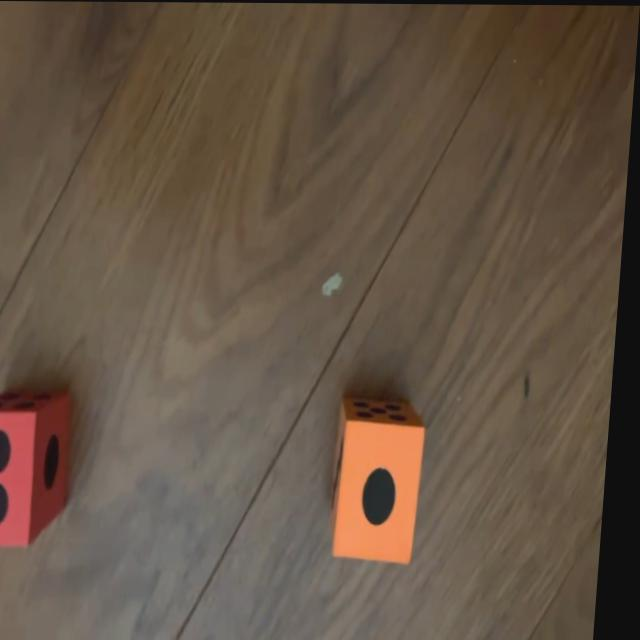cube: (0, 393, 81, 549)
